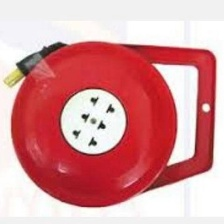three_eye_plug: (6, 38, 184, 212)
